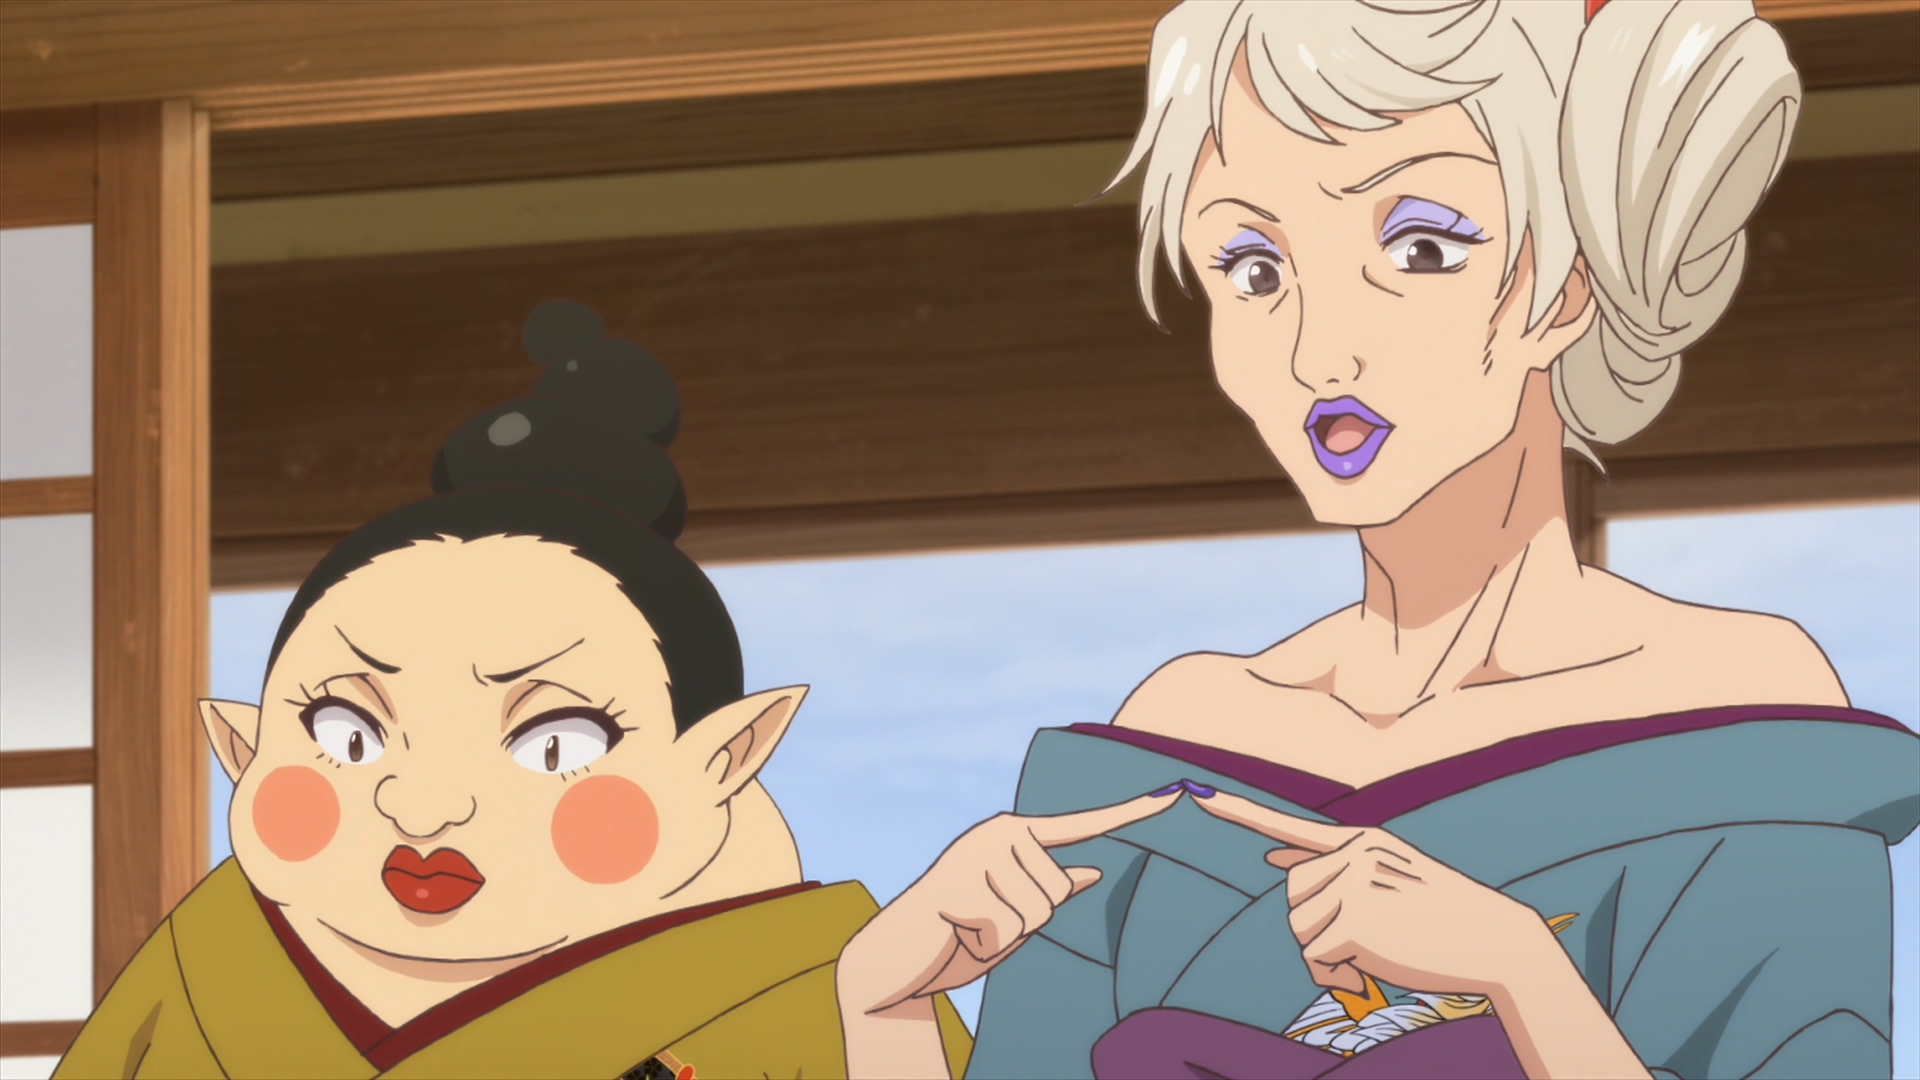其他: (835, 1, 1920, 1080), (51, 302, 975, 1080)
